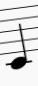note: (4, 6, 33, 73)
